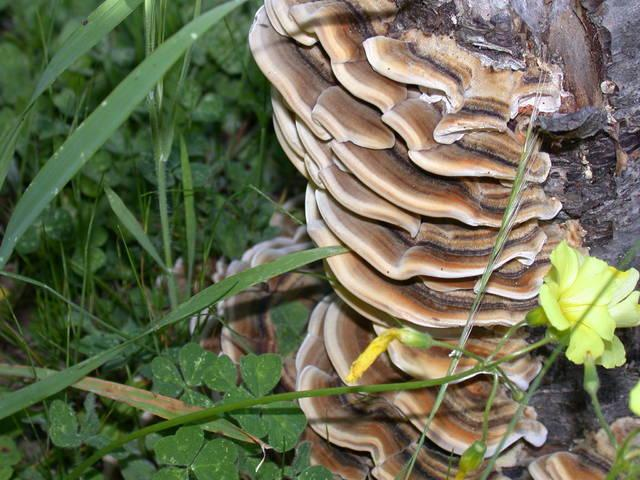Non-edible Mushroom: (245, 0, 581, 479)
